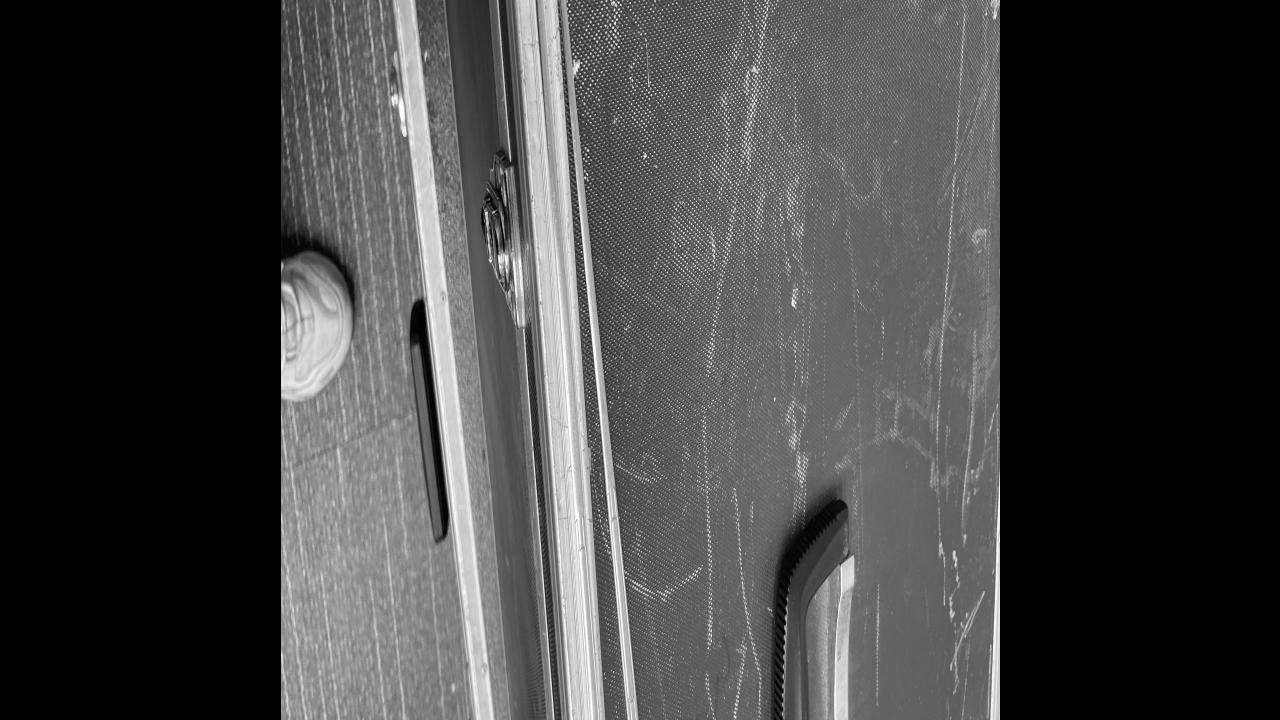chopstick: (534, 0, 640, 720)
